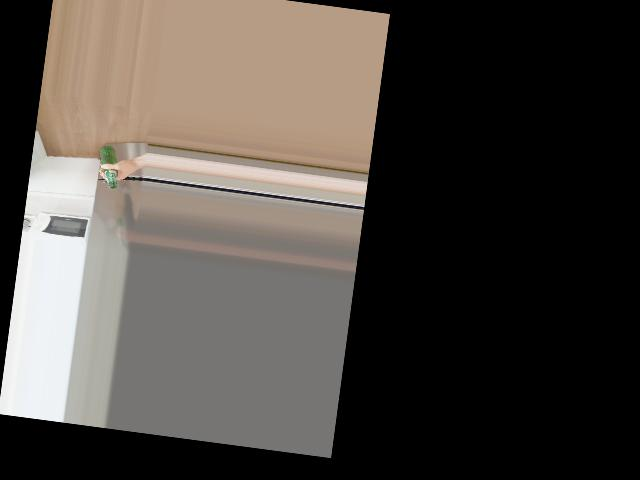beer: (95, 144, 122, 188)
